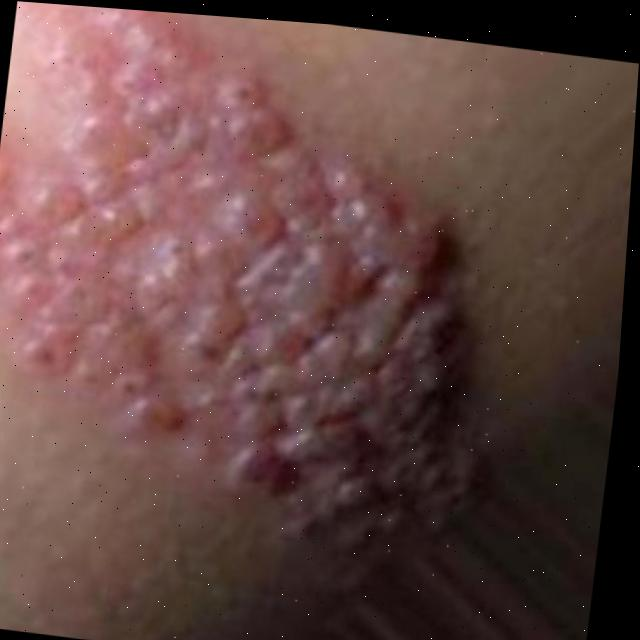Shingles: (0, 0, 527, 587)
